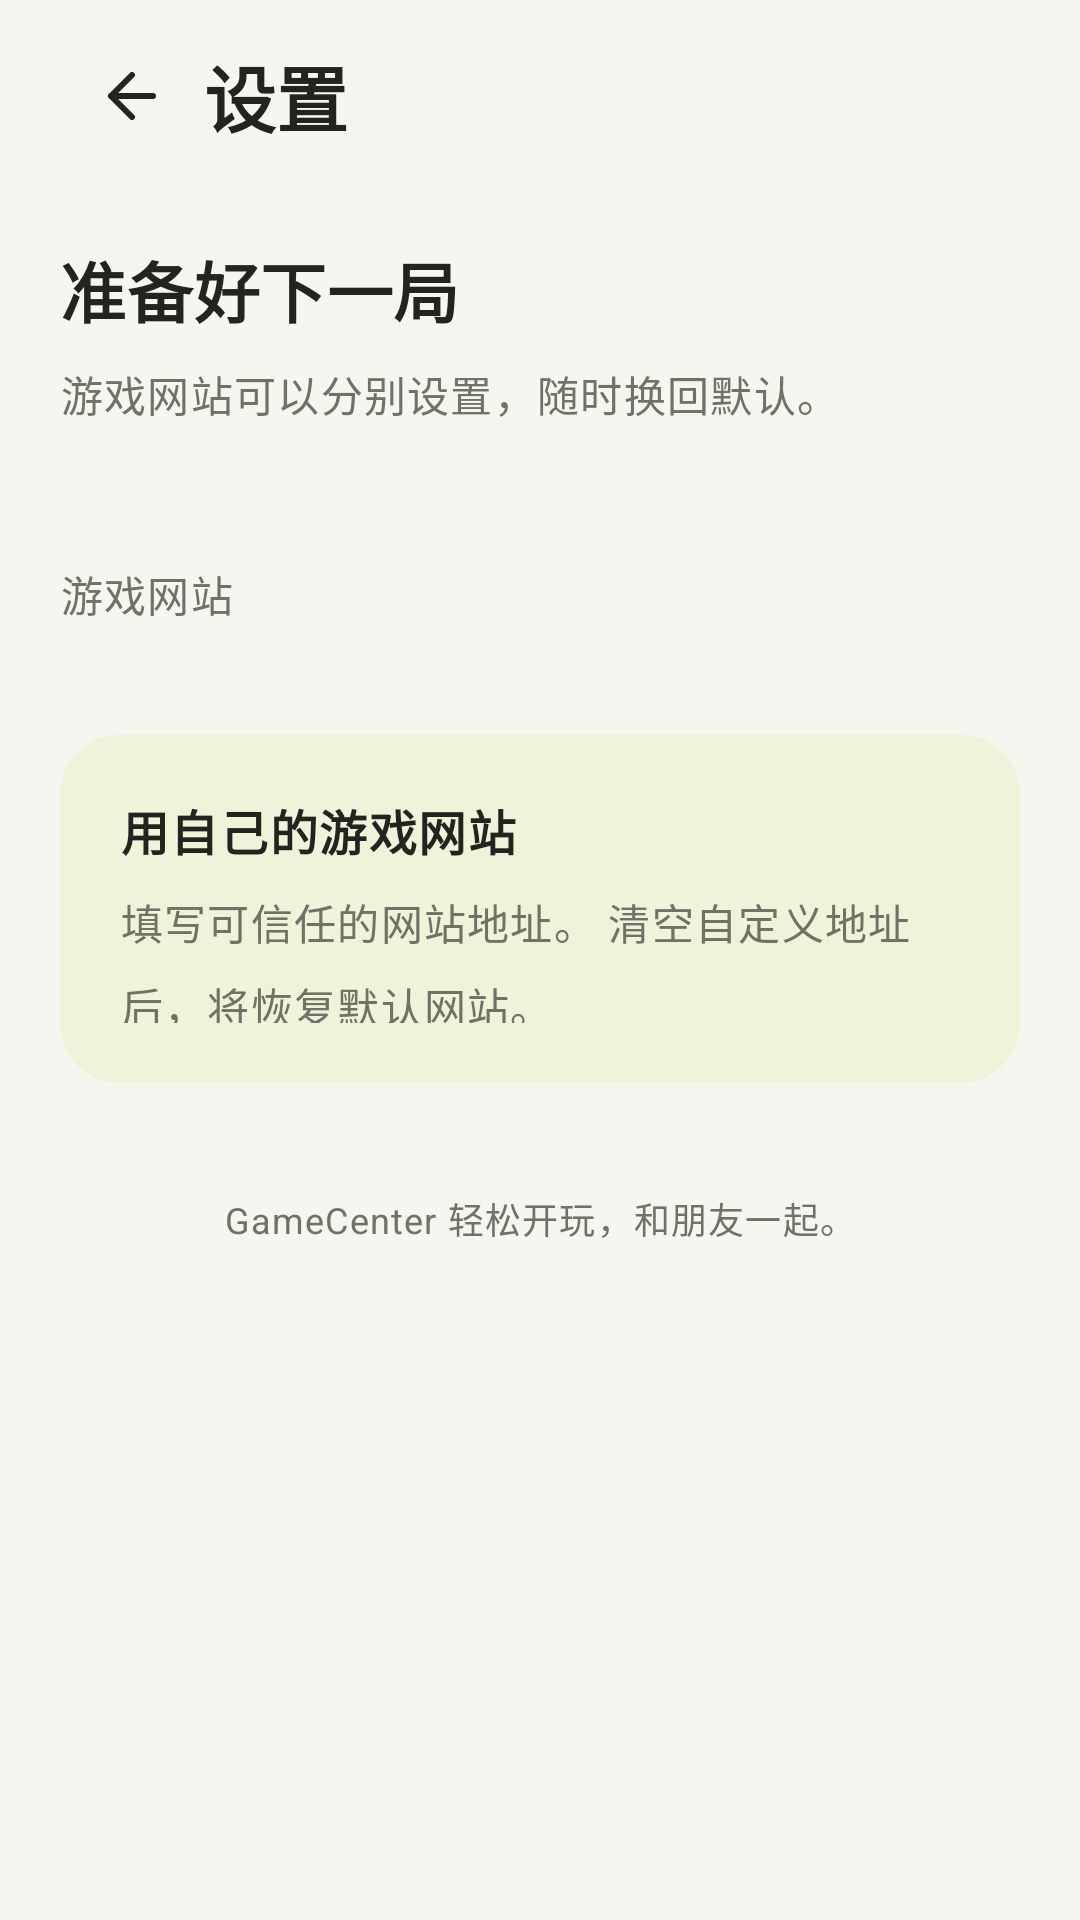

Point at icon controls on the screen. Image size 1080 × 1920, points as (x=x, y=y).
返回大厅: (x=132, y=96)
